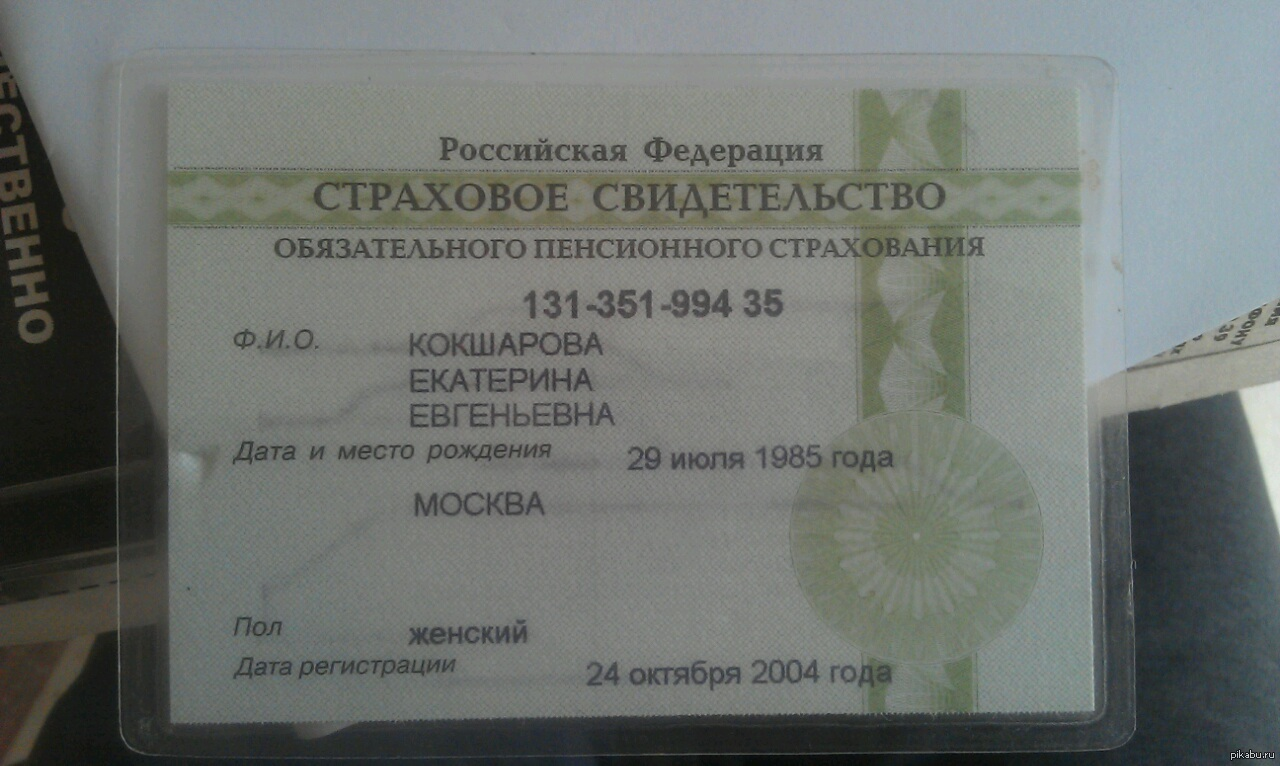text: (578, 653, 898, 691), (616, 438, 897, 476), (511, 283, 791, 320), (401, 479, 560, 528), (398, 399, 624, 433), (401, 326, 617, 359), (402, 365, 603, 397), (405, 611, 538, 652)
